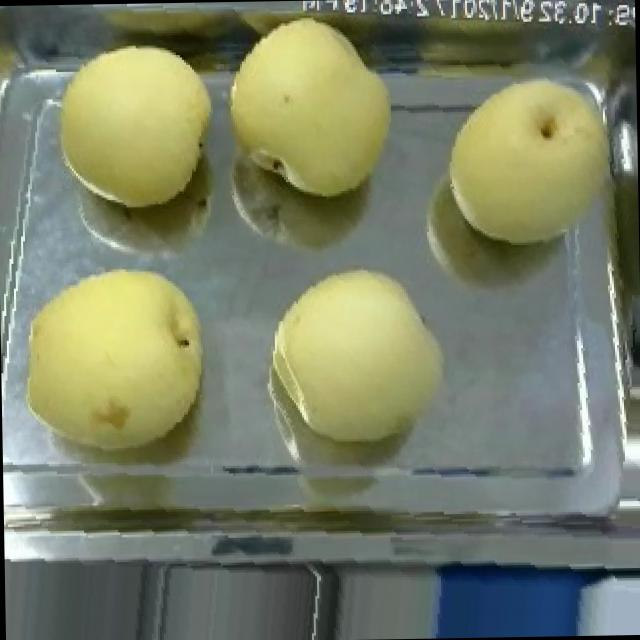Fruit: (2, 247, 218, 462), (210, 3, 408, 210), (257, 253, 458, 454), (433, 58, 634, 255), (37, 21, 228, 222)
